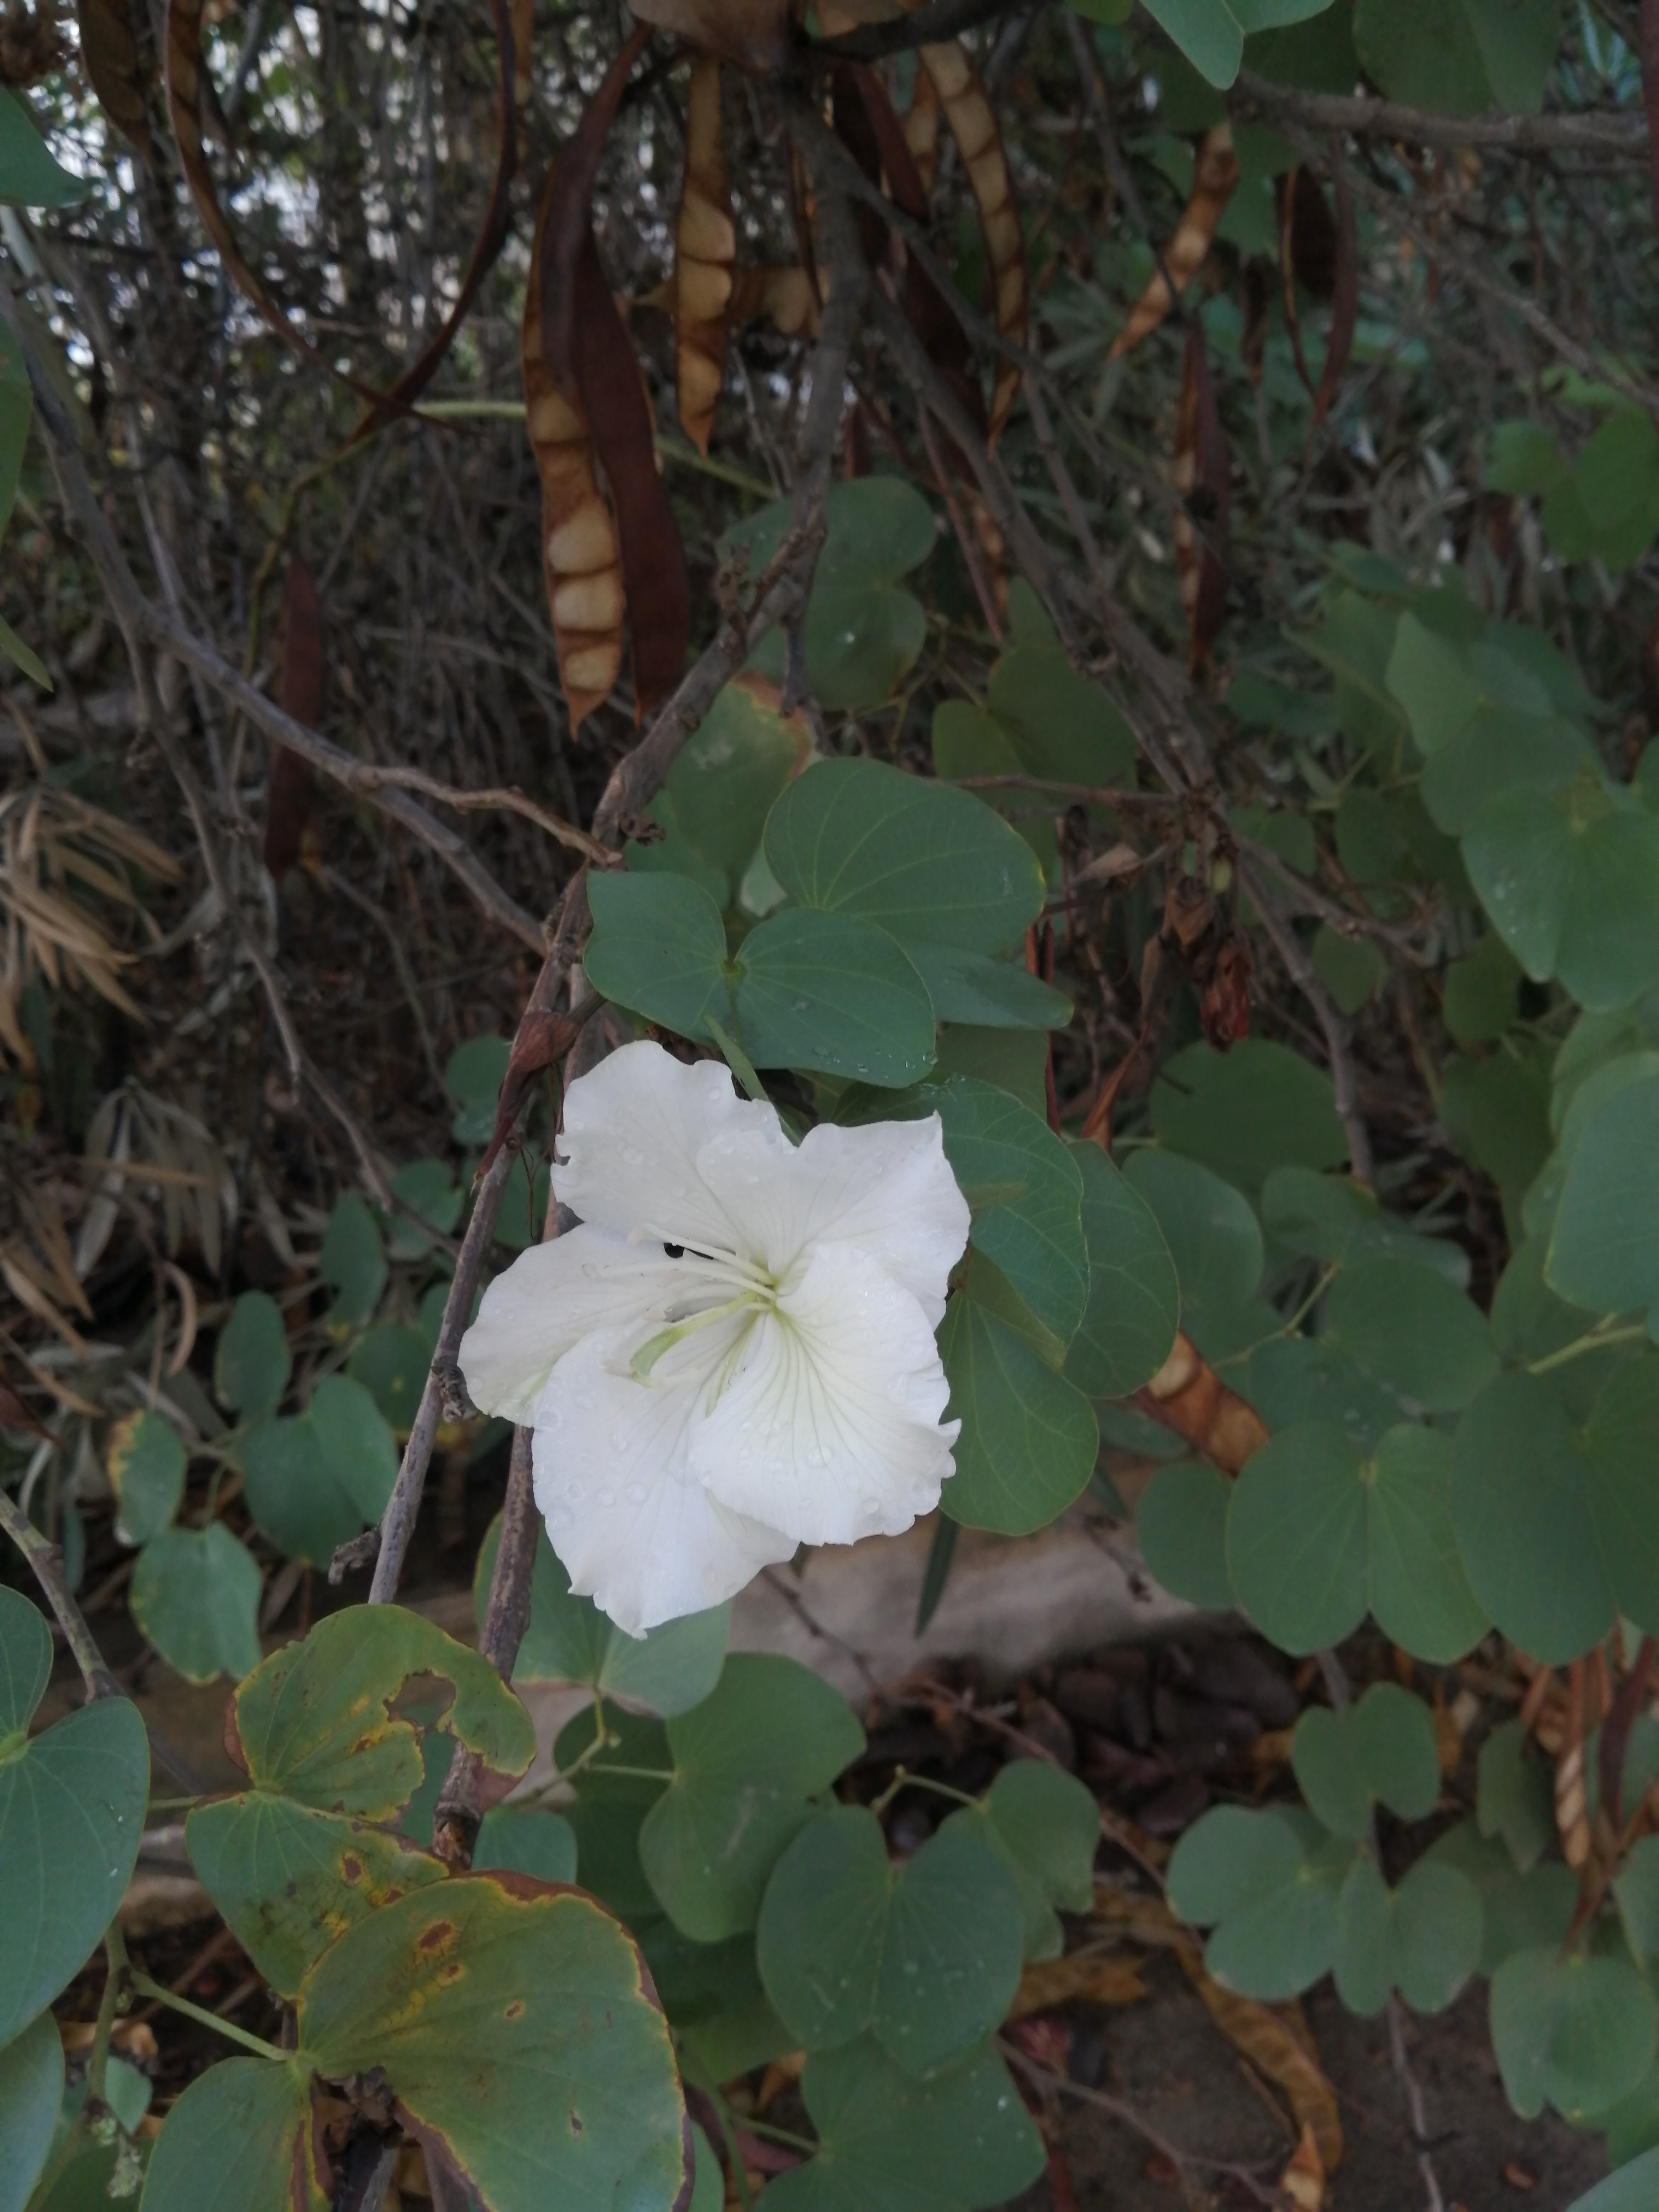nothealthy: (143, 1796, 732, 2212)
